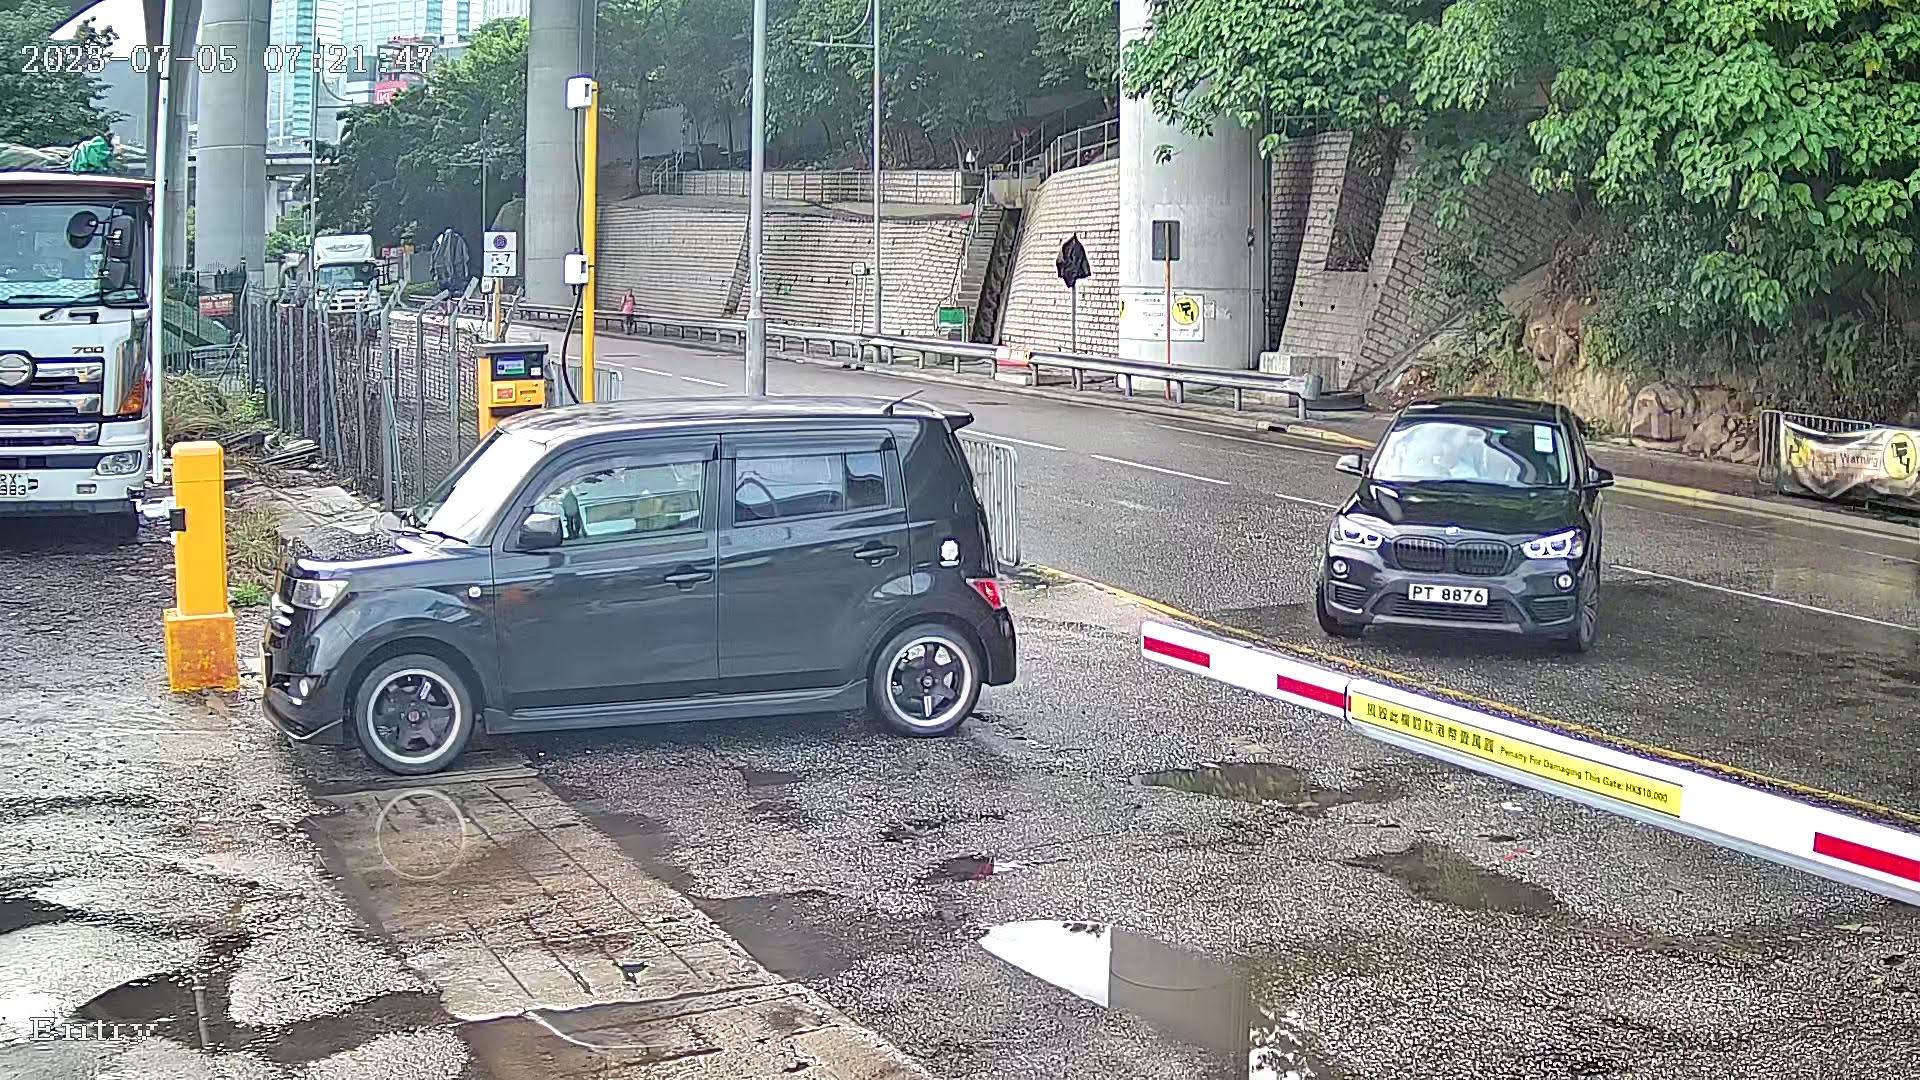privatecar: (251, 380, 1017, 822)
